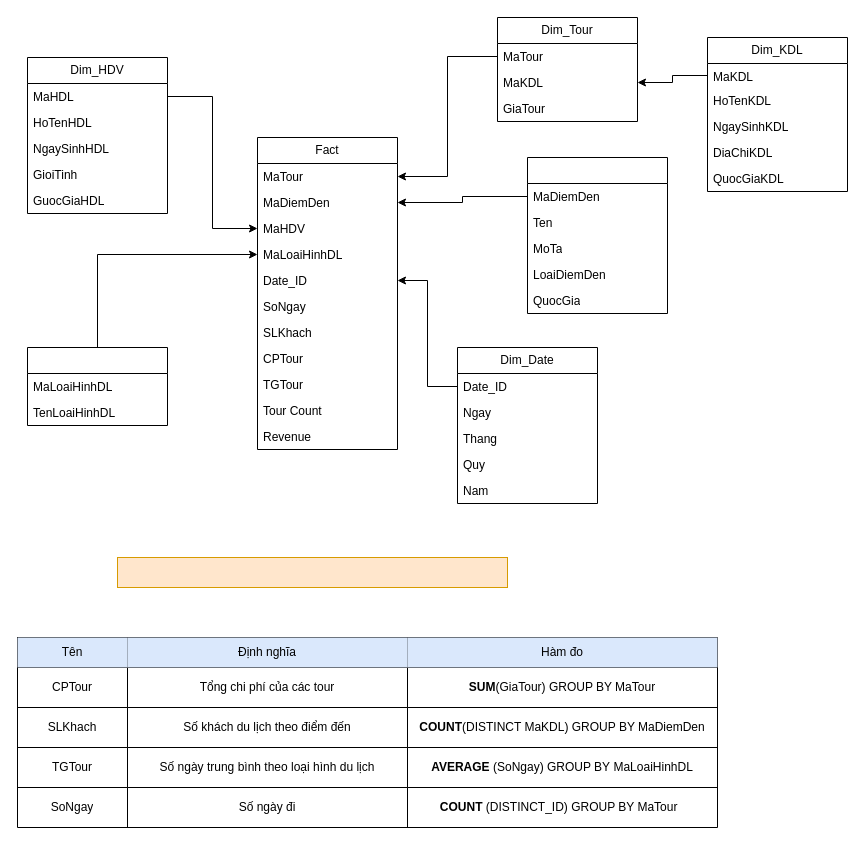
This 865x845 diagram has some shape labels left out. The box of each missing label's shape, as (x1, y1, x2, y2) in pixels:
3 độ đo (Measures), đặt tên, định nghĩa các độ đo bằng hàm cụ thể.: (116, 556, 508, 588)
Dim_DD: (526, 156, 668, 314)
Dim_LHDL: (26, 346, 168, 426)
